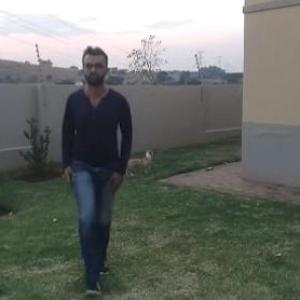follow: (63, 50, 130, 275)
